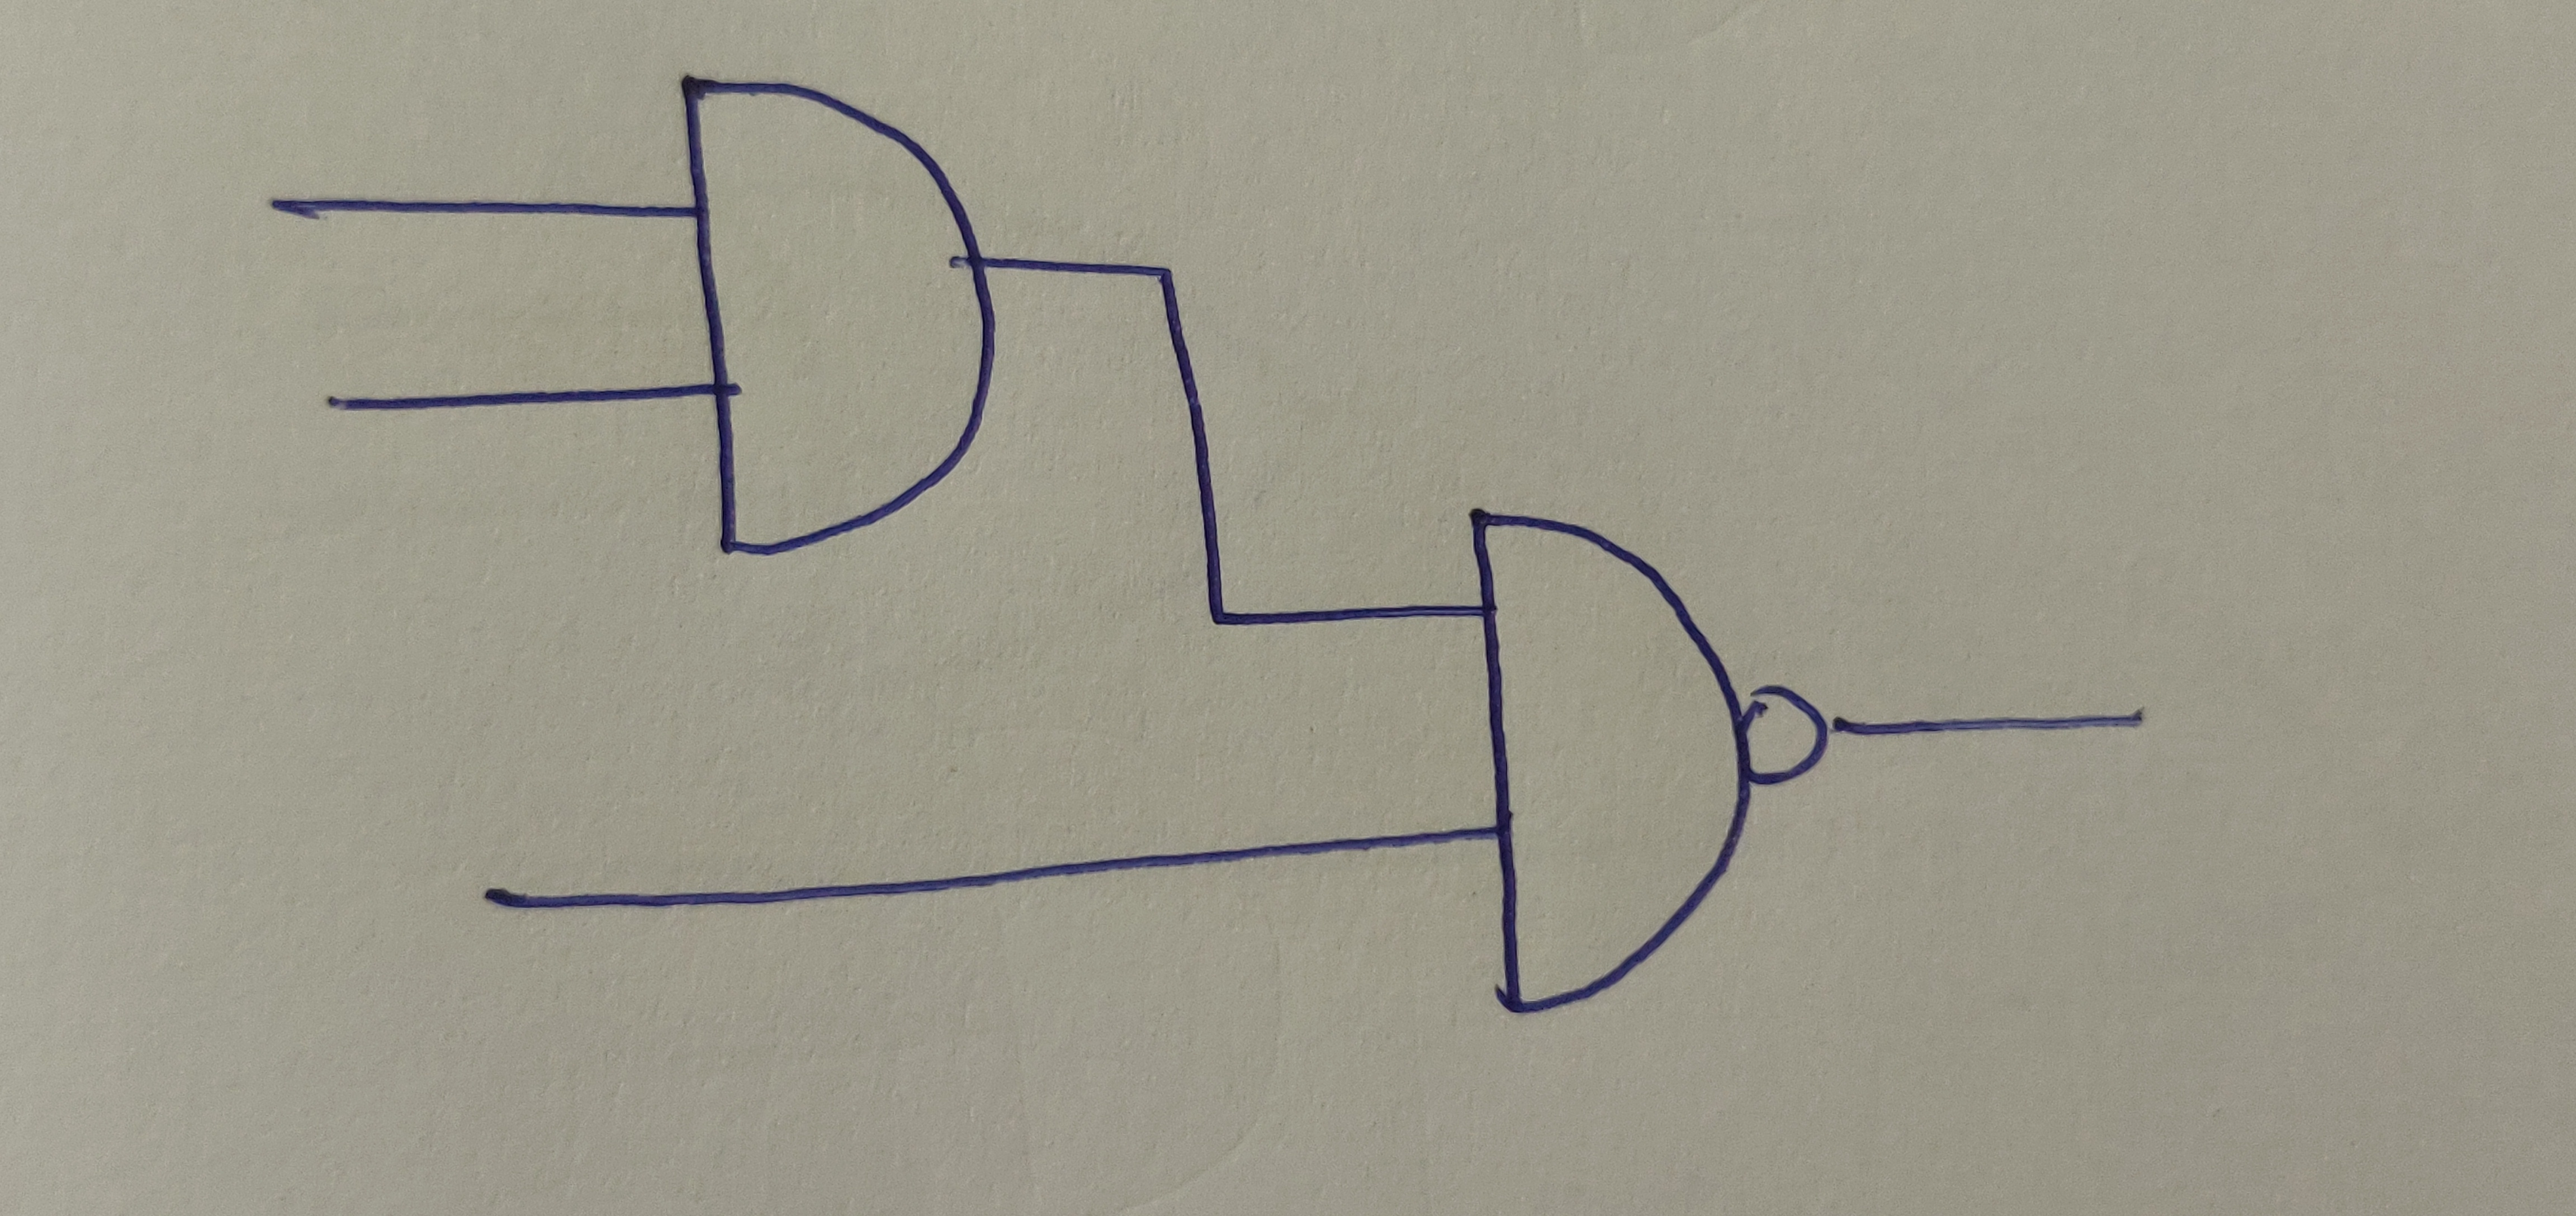and: (674, 69, 997, 557), (1467, 509, 1753, 1016)
not: (1733, 684, 1827, 785)
